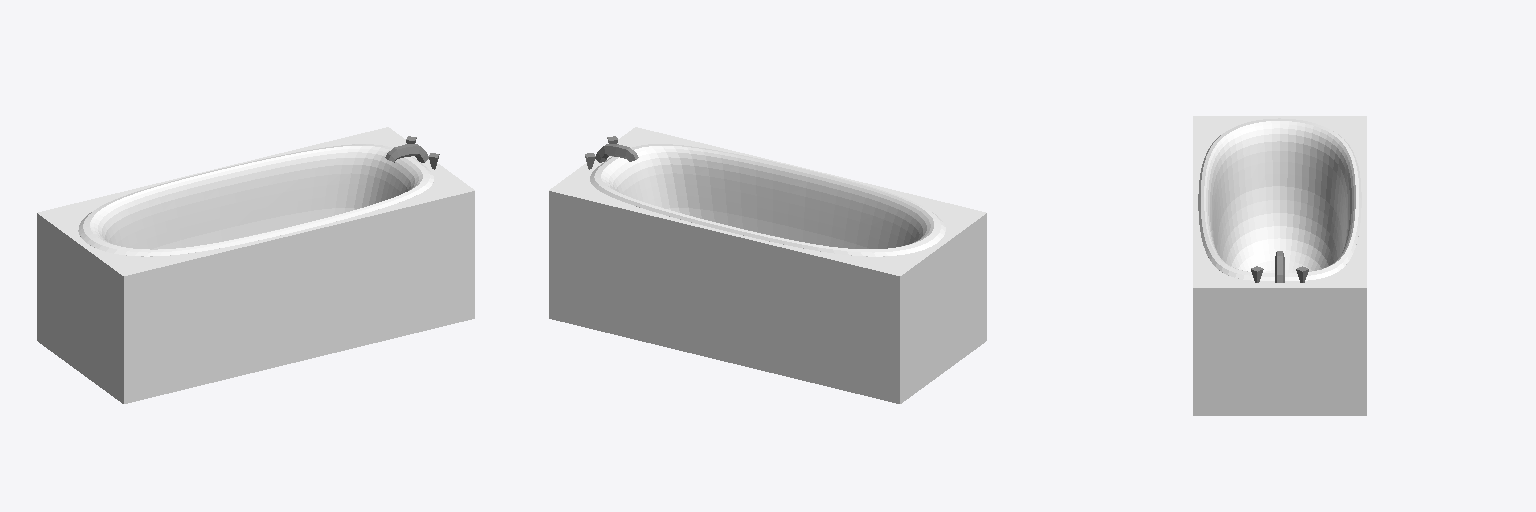
Rendered from bath.obj.
3 renders of one model, left to right at view 1: azimuth 30°, elevation 25°; view 2: azimuth 150°, elevation 25°; view 3: azimuth 270°, elevation 25°, orthographic.
Visible parts, largest first — view 1: Tour_5, Baignore_1; view 2: Tour_5, Baignore_1; view 3: Tour_5, Baignore_1.
Part boxes in pixels (x1,y1,x2,y2): Tour_5: (37,127,474,403); Baignore_1: (78,144,433,256); Tour_5: (549,127,986,403); Baignore_1: (590,144,945,256); Tour_5: (1193,116,1366,415); Baignore_1: (1198,118,1361,280).
Bounding box in the file's own units: 178 × 71.12 × 76.2.